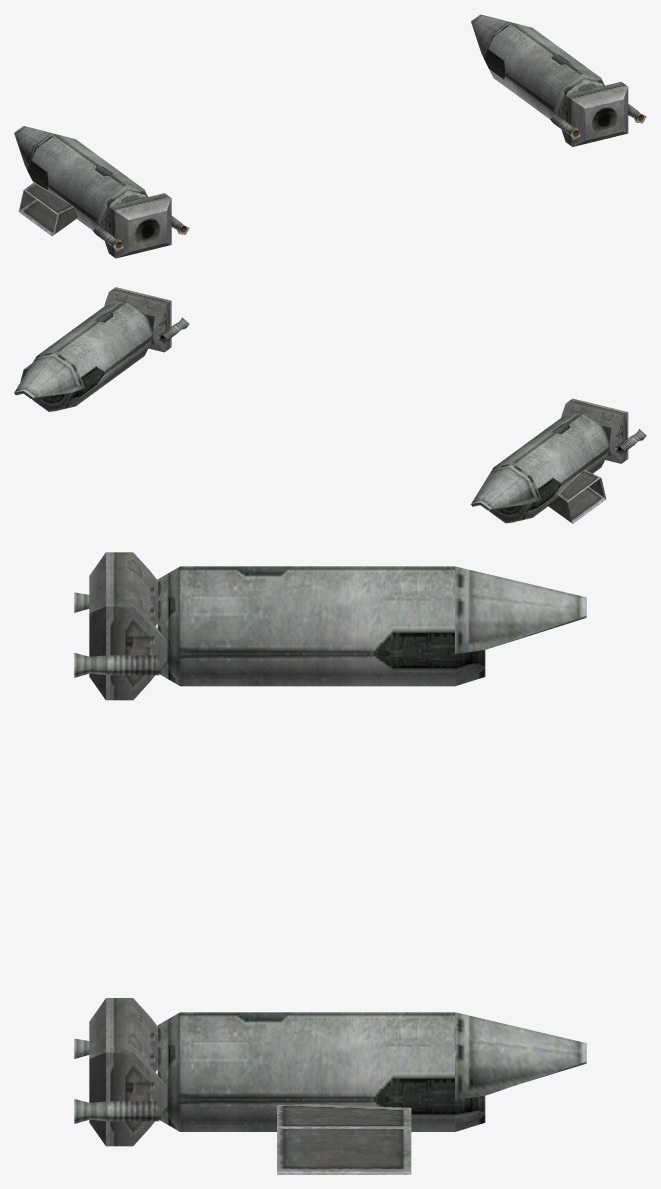
Rendered from black_sun_fighter_heavy_weapon2_s03_l0.fbx.
3 views of the same model, one above another, from view 1: azimuth 30°, elevation 25°; view 2: azimuth 150°, elevation 25°; view 3: azimuth 270°, elevation 25° (orthographic). The views are drawn at different scales.
Visible parts, largest first — view 1: mesh_node; view 2: mesh_node; view 3: mesh_node.
Part boxes in pixels (bbox=[...]): mesh_node: bbox=[14, 14, 646, 258]; mesh_node: bbox=[14, 287, 646, 523]; mesh_node: bbox=[74, 552, 586, 1174].
Size of the model in its own units: 5.25 by 0.5418 by 2.1.
Materials: 1 (1 with a texture image).
